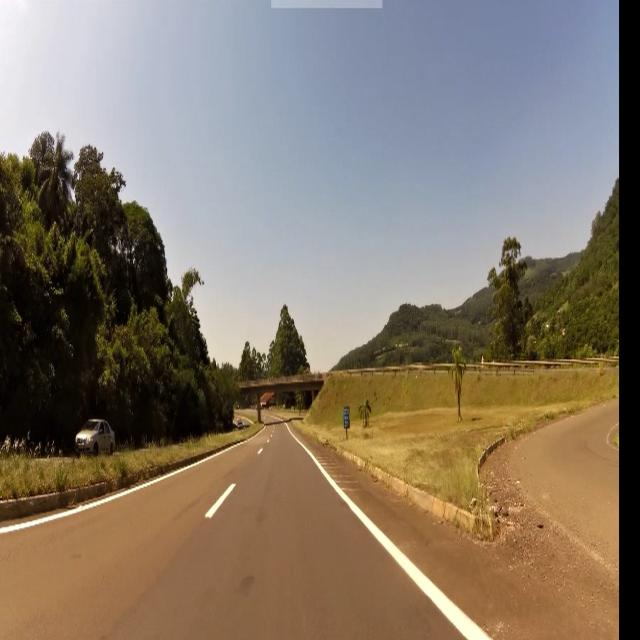RQ: (342, 407, 352, 435)
